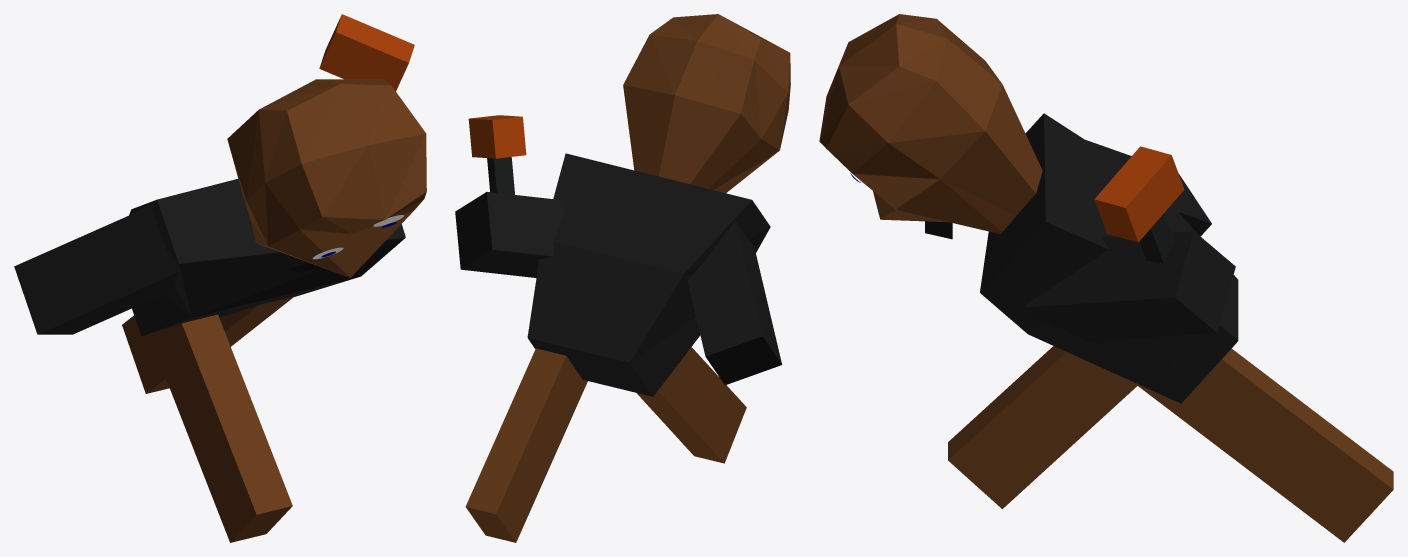
Rendered from servant2f.obj.
3 renders of one model, left to right at view 1: azimuth 30°, elevation 25°; view 2: azimuth 150°, elevation 25°; view 3: azimuth 270°, elevation 25°, orthographic. The views are drawn at different scales.
Visible parts, largest first — view 1: Cube, Cube.001, Cube.004, Cube.003, Cube.008, Cube.005; view 2: Cube.001, Cube, Cube.005, Cube.003, Cube.002, Cube.004, Cube.008, Cube.007; view 3: Cube, Cube.001, Cube.005, Cube.002, Cube.004, Cube.008, Cube.003, Cube.007.
Boxes of the visible parts, bbox=[...] form: Cube: bbox=[227, 79, 426, 277]; Cube.001: bbox=[129, 179, 405, 336]; Cube.004: bbox=[148, 314, 292, 542]; Cube.003: bbox=[14, 205, 177, 334]; Cube.008: bbox=[319, 14, 414, 91]; Cube.005: bbox=[122, 296, 294, 393]; Cube.001: bbox=[527, 153, 770, 396]; Cube: bbox=[623, 14, 790, 193]; Cube.005: bbox=[465, 348, 587, 542]; Cube.003: bbox=[687, 221, 781, 385]; Cube.002: bbox=[455, 192, 568, 277]; Cube.004: bbox=[637, 347, 746, 463]; Cube.008: bbox=[468, 115, 526, 158]; Cube.007: bbox=[487, 157, 514, 194]; Cube: bbox=[819, 14, 1042, 234]; Cube.001: bbox=[980, 113, 1238, 403]; Cube.005: bbox=[1132, 348, 1393, 542]; Cube.002: bbox=[1025, 231, 1235, 341]; Cube.004: bbox=[948, 346, 1137, 509]; Cube.008: bbox=[1094, 146, 1184, 242]; Cube.003: bbox=[1085, 139, 1211, 236]; Cube.007: bbox=[1139, 213, 1174, 263].
Size of the model in its own units: 3.58 by 4.4 by 4.61.
